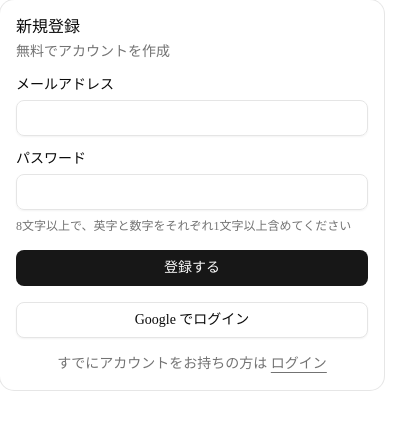
RegisterForm › ポリシー違反パスワードはクライアント側で弾き signUp を呼ばない
Type "a@example.com" into the field labelled "メールアドレス".
click(192, 118); type("a@example.com")  # box [16, 100, 368, 136]
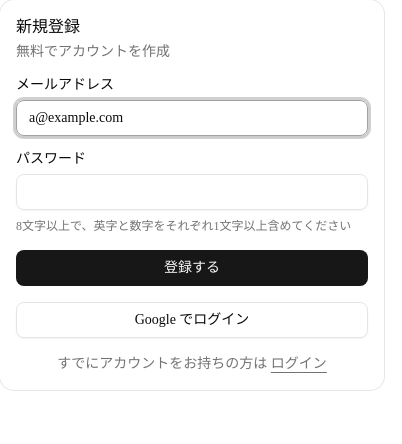
Type "short1" into the password field labelled "パスワード".
click(192, 192); type("short1")  # box [16, 174, 368, 210]
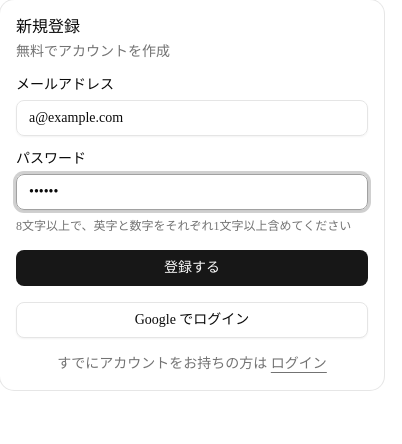
Click the button "登録する".
click(192, 268)  # box [16, 250, 368, 286]
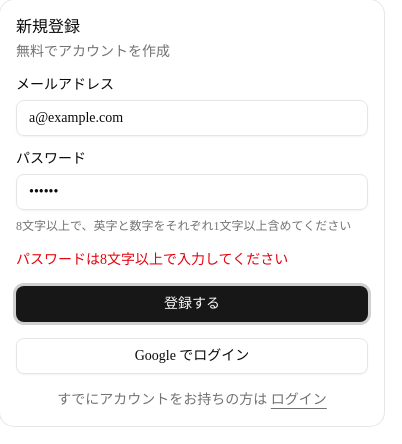
Result: the message shows "8文字以上" at [16, 252, 288, 267]
